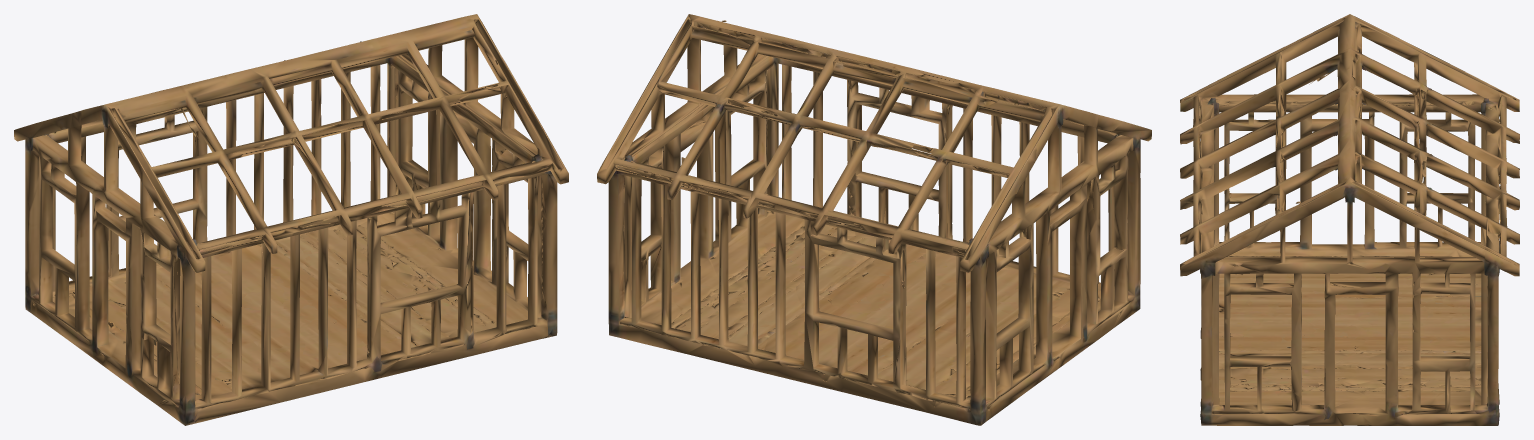
The model's file is frame-standard.glb.
3 views of the same model, side by side, from view 1: azimuth 30°, elevation 25°; view 2: azimuth 150°, elevation 25°; view 3: azimuth 270°, elevation 25° (orthographic). The views are drawn at different scales.
Visible parts, largest first — view 1: world; view 2: world; view 3: world.
Part boxes in pixels (x1,y1,x2,y2): world: (14, 14, 568, 425); world: (597, 14, 1151, 425); world: (1180, 14, 1519, 425).
Bounding box in the file's own units: 1 × 0.6728 × 0.8488.
Materials: 1 (1 with a texture image).
